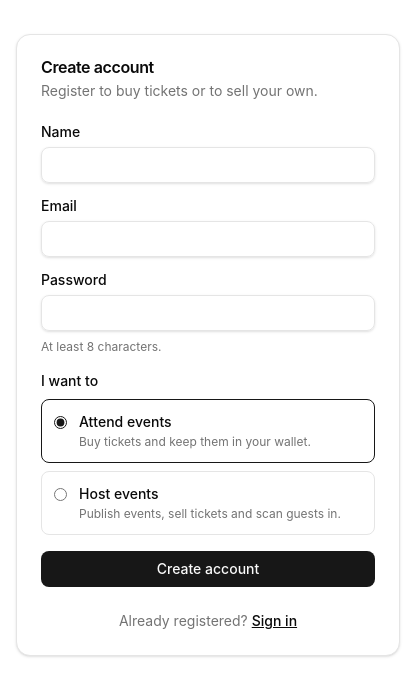
RegisterPage › reports an email that is already registered
Type "Dora Klein" into the field with id "name" at [208, 165], box x1=41 y1=147 x2=375 y2=183
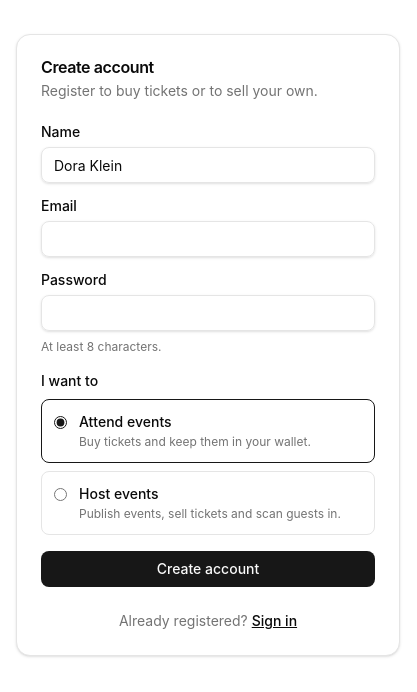
Type "dora@example.com" into the field with id "email" at [208, 239], box x1=41 y1=221 x2=375 y2=257
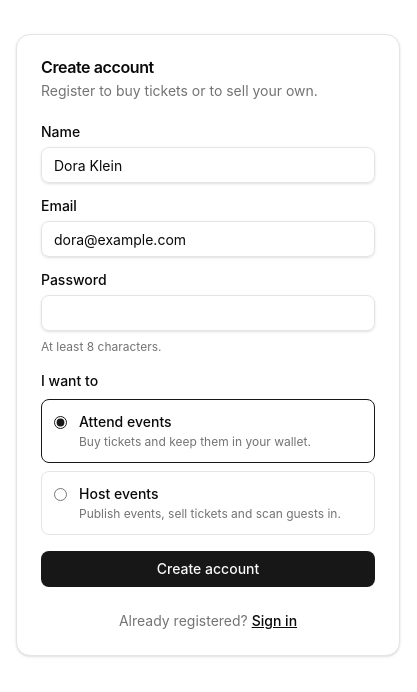
Type "user12345" into the password field labelled "Password" at [208, 313], box x1=41 y1=295 x2=375 y2=331
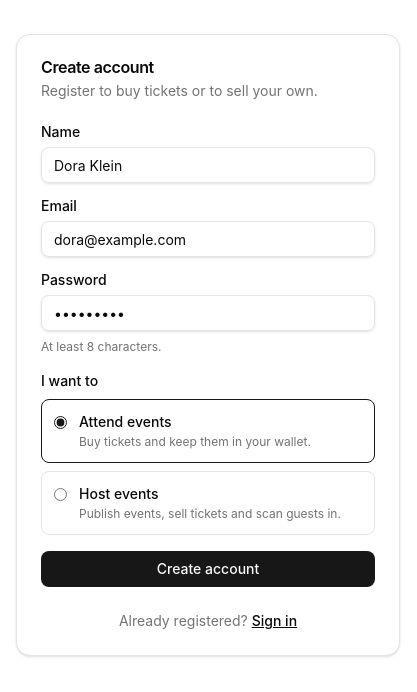
Submit the form, box x1=41 y1=125 x2=375 y2=587
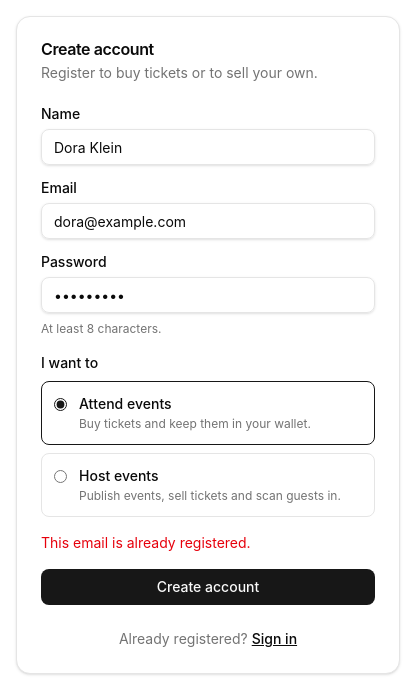
Expected: the text "This email is already registered." is shown, x1=41 y1=534 x2=251 y2=551
